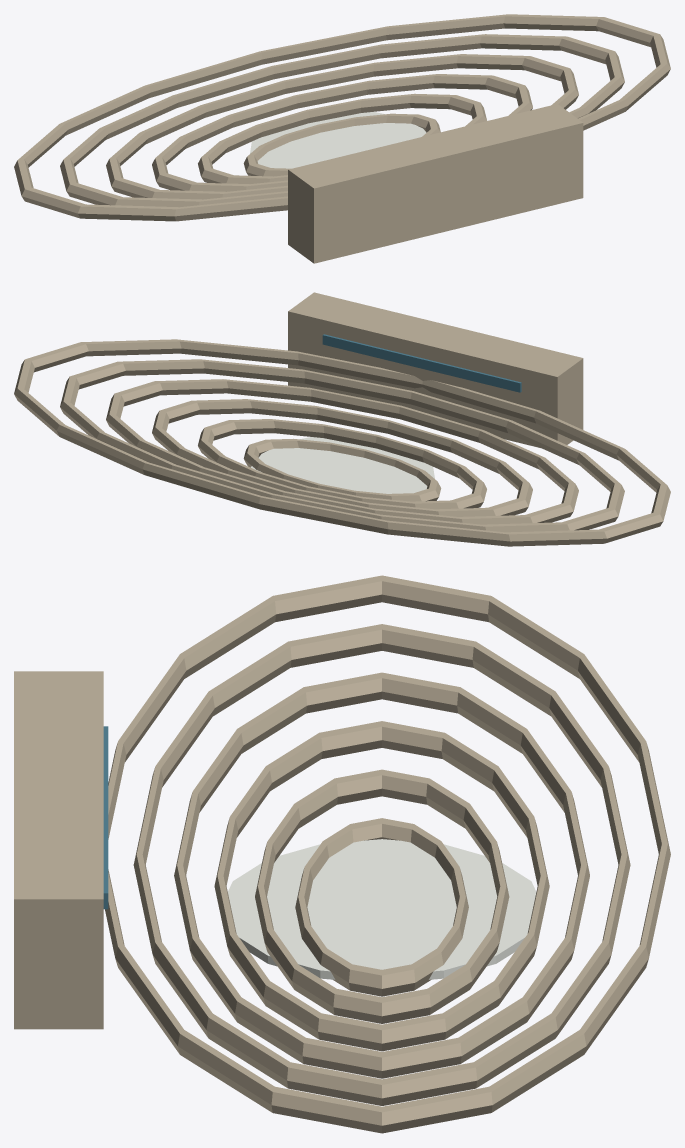
File: dionysus_theatre_hero.glb
3 views of the same model, one above another, from view 1: azimuth 30°, elevation 25°; view 2: azimuth 150°, elevation 25°; view 3: azimuth 270°, elevation 25° (orthographic). The views are drawn at different scales.
Visible parts, largest first — view 1: limestone_cavea_tier.001; view 2: limestone_cavea_tier.001; view 3: limestone_cavea_tier.001.
Part boxes in pixels (x1,y1,x2,y2): limestone_cavea_tier.001: (14,14,670,263); limestone_cavea_tier.001: (14,292,670,546); limestone_cavea_tier.001: (14,575,670,1133).
Size of the model in its own units: 71.5 by 8.15 by 36.59.
